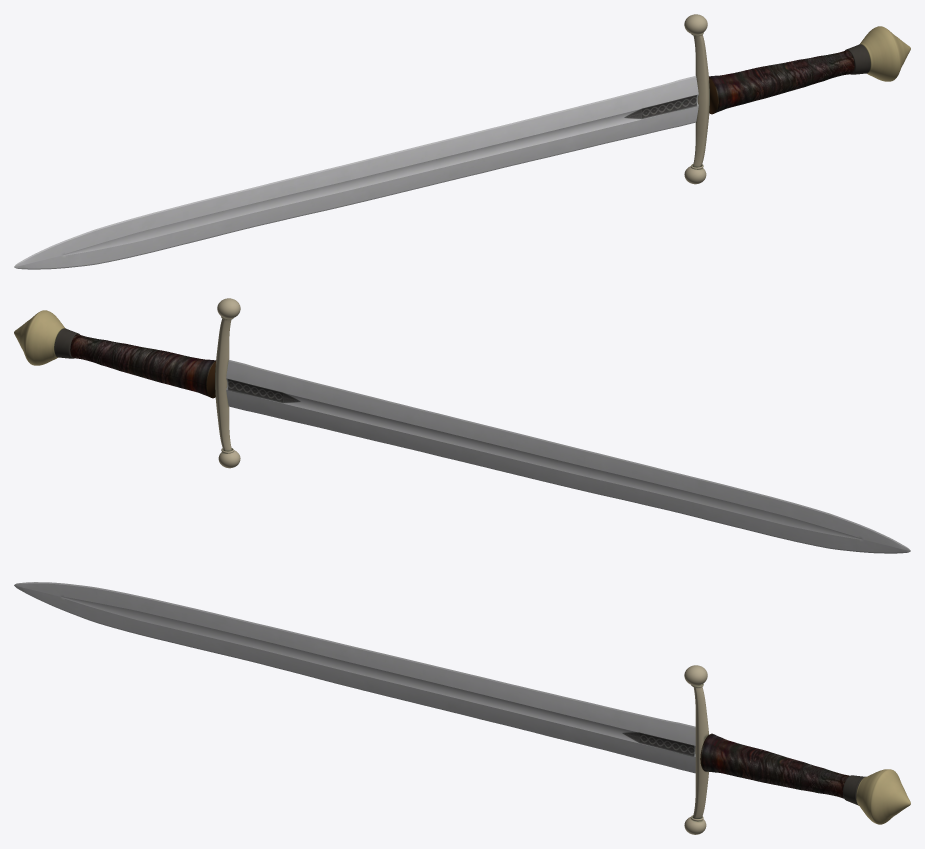
Rendered from sword.glb.
3 views of the same model, one above another, from view 1: azimuth 30°, elevation 25°; view 2: azimuth 150°, elevation 25°; view 3: azimuth 330°, elevation 25° (orthographic).
Visible parts, largest first — view 1: Espada_Lamina, Espada_Punho, Espada_Guarda, Espada_Pomo; view 2: Espada_Lamina, Espada_Punho, Espada_Guarda, Espada_Pomo; view 3: Espada_Lamina, Espada_Punho, Espada_Guarda, Espada_Pomo.
Part boxes in pixels (x1=…): Espada_Lamina: x1=14, y1=76, x2=698, y2=269; Espada_Punho: x1=709, y1=50, x2=854, y2=114; Espada_Guarda: x1=684, y1=14, x2=709, y2=184; Espada_Pomo: x1=860, y1=26, x2=910, y2=81; Espada_Lamina: x1=226, y1=360, x2=910, y2=553; Espada_Punho: x1=70, y1=334, x2=215, y2=398; Espada_Guarda: x1=215, y1=298, x2=240, y2=468; Espada_Pomo: x1=14, y1=310, x2=64, y2=365; Espada_Lamina: x1=14, y1=582, x2=695, y2=773; Espada_Punho: x1=700, y1=733, x2=849, y2=798; Espada_Guarda: x1=684, y1=665, x2=708, y2=834; Espada_Pomo: x1=856, y1=769, x2=910, y2=824.
Size of the model in its own units: 0.9812 by 0.1749 by 0.0536.
Materials: 5 (5 with a texture image).
